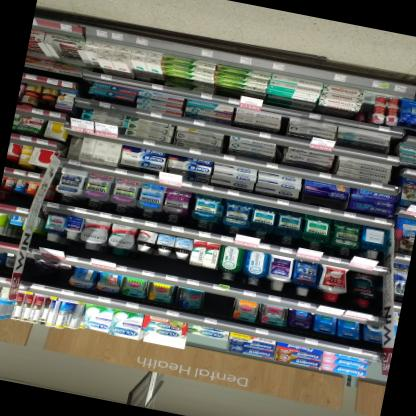empty_space: (24, 257, 70, 289), (198, 292, 235, 321)
